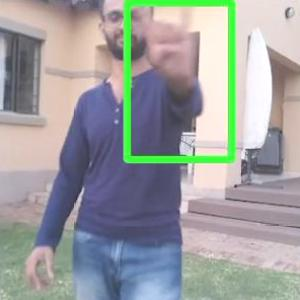takeoff-hand: (130, 0, 209, 104)
